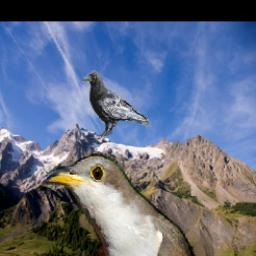Crow: (82, 71, 151, 141)
Cuckoo: (45, 153, 196, 256)
